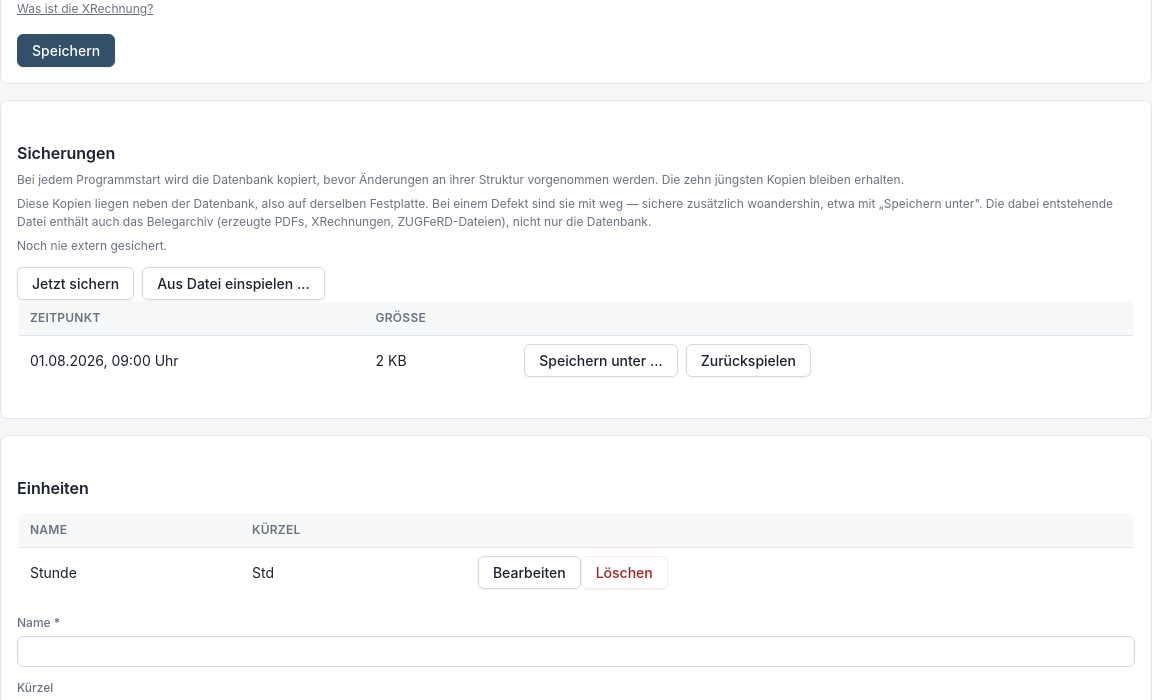
Test: Einstellungen › merkt sich Zeitpunkt einer externen Sicherung und zeigt ihn an
(page scrolled)
Check: the text "01.08.2026, 09:00 Uhr" is shown, box [18, 336, 364, 386]
Click the button "Speichern unter …" at (601, 360), box [524, 344, 678, 377]
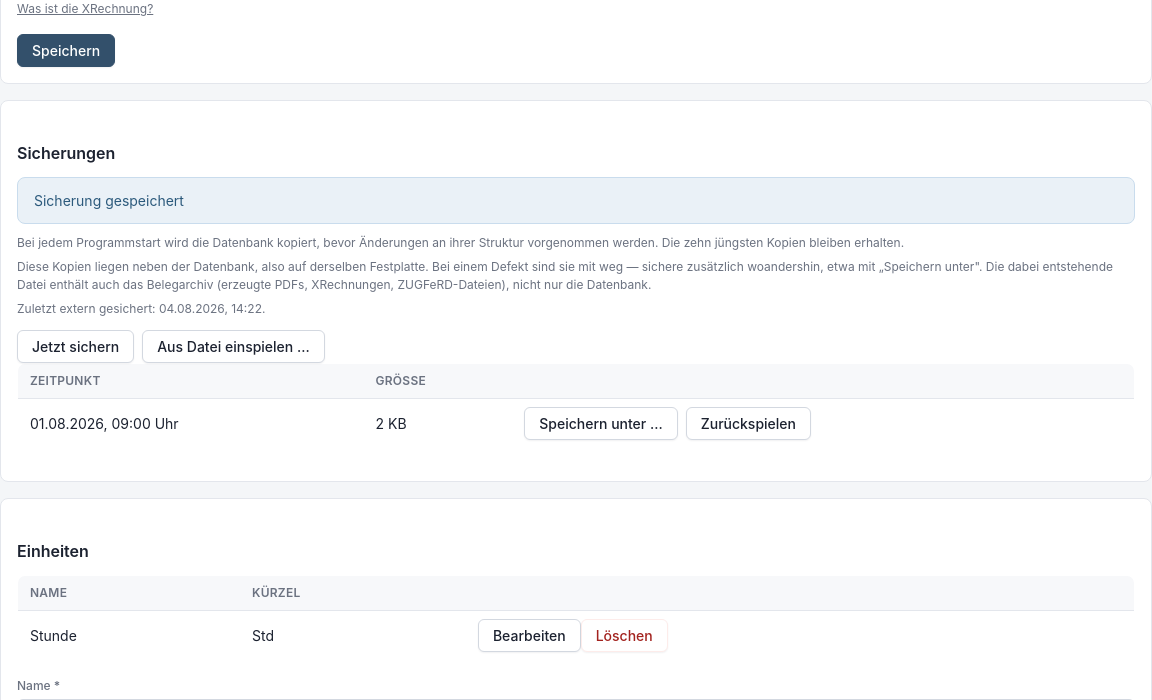
Check: the text "Zuletzt extern gesichert: 04.08.2026, 14:22." is shown, box [17, 301, 265, 316]
